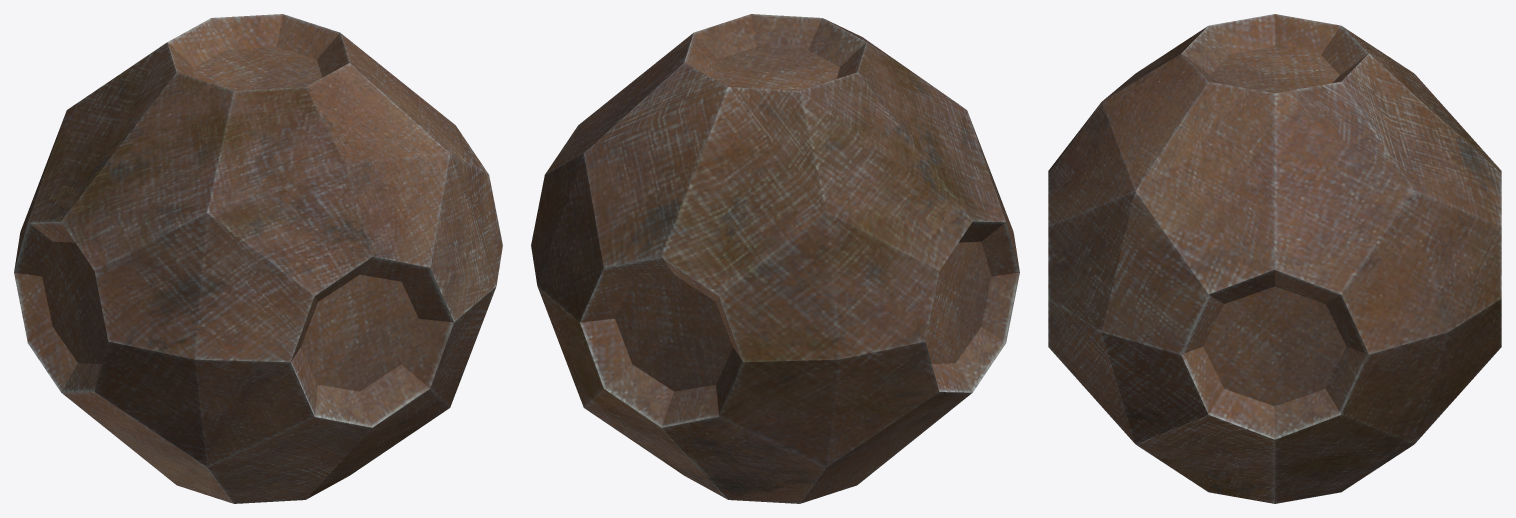
The model's file is meteo.fbx.
3 renders of one model, left to right at view 1: azimuth 30°, elevation 25°; view 2: azimuth 150°, elevation 25°; view 3: azimuth 270°, elevation 25°, orthographic.
Parts seen in each view (by area): view 1: pSphere8; view 2: pSphere8; view 3: pSphere8.
Boxes of the visible parts, x1,y1,x2,y2 form: pSphere8: [14, 14, 502, 503]; pSphere8: [531, 14, 1019, 503]; pSphere8: [1048, 14, 1501, 503].
Bounding box in the file's own units: 5.86 × 5.86 × 5.86.
